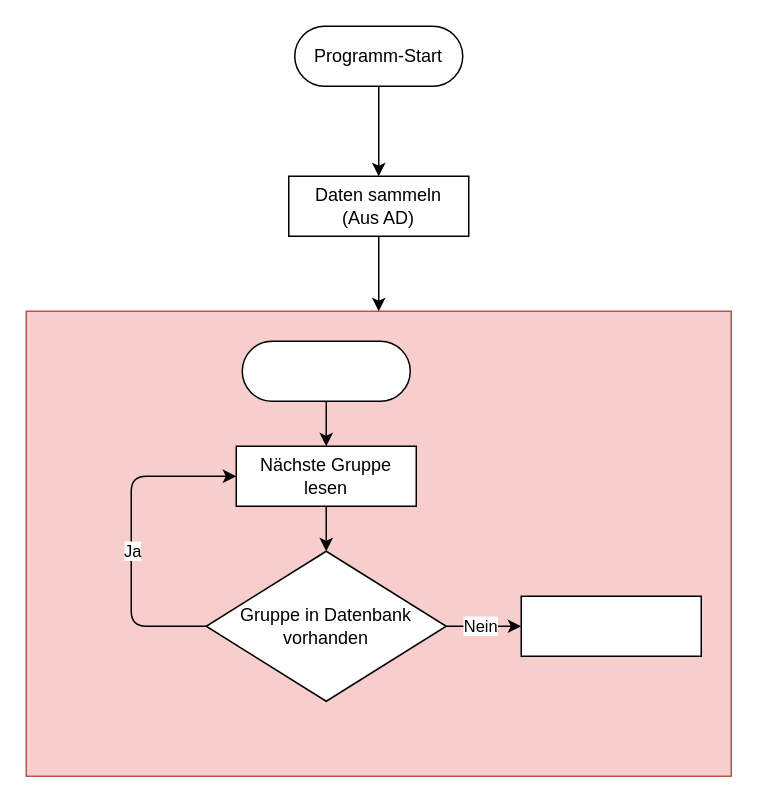
The diagram is 758 pixels wide and 803 high, and some of its shapes have lost their labels. The shapes that lost their labels are listed below. From the top down, each one's box as (x1, y1, x2, y2) in pixels, then its label:
(241, 340, 410, 401): Start
(520, 595, 701, 656): Gruppe löschen
